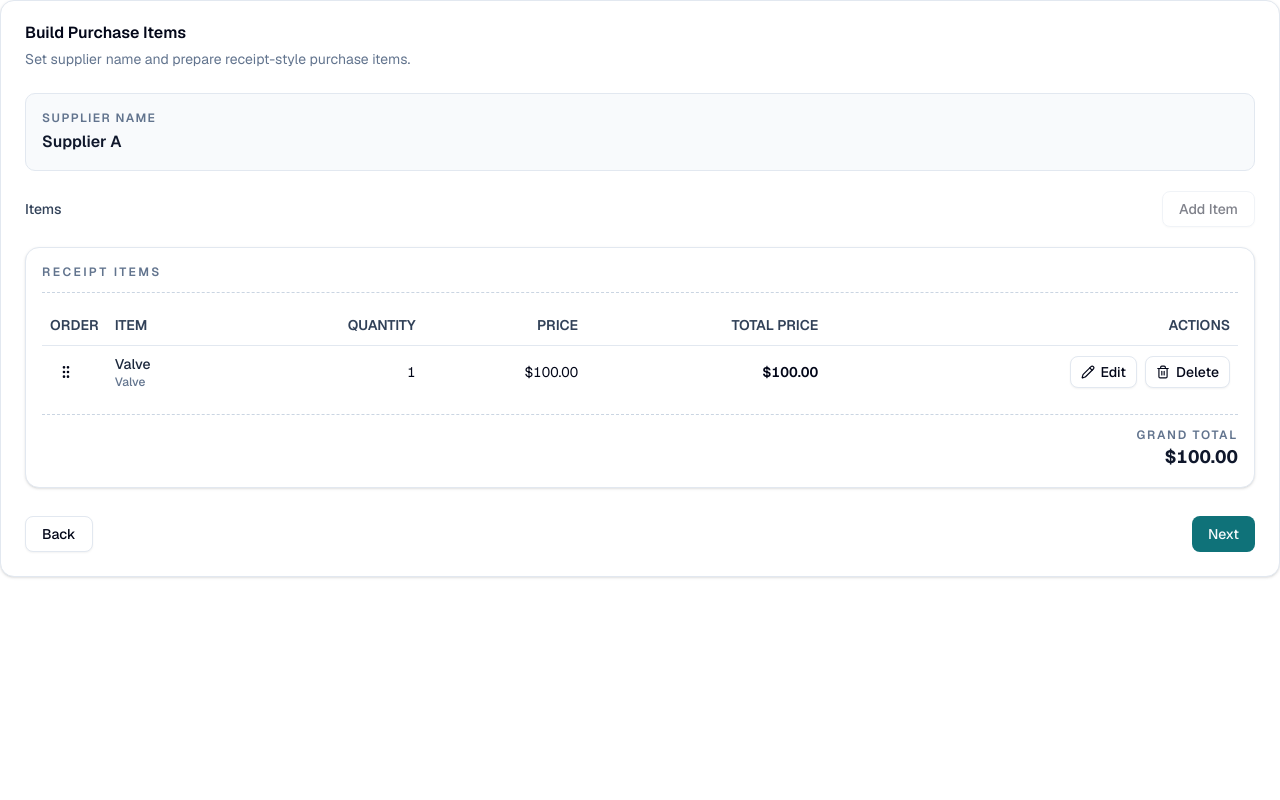
it: CreatePurchaseOrderStepTwo › shows supplier mismatch message when backend returns 409
Click the button "Next": (1223, 534) [1192, 516, 1255, 552]
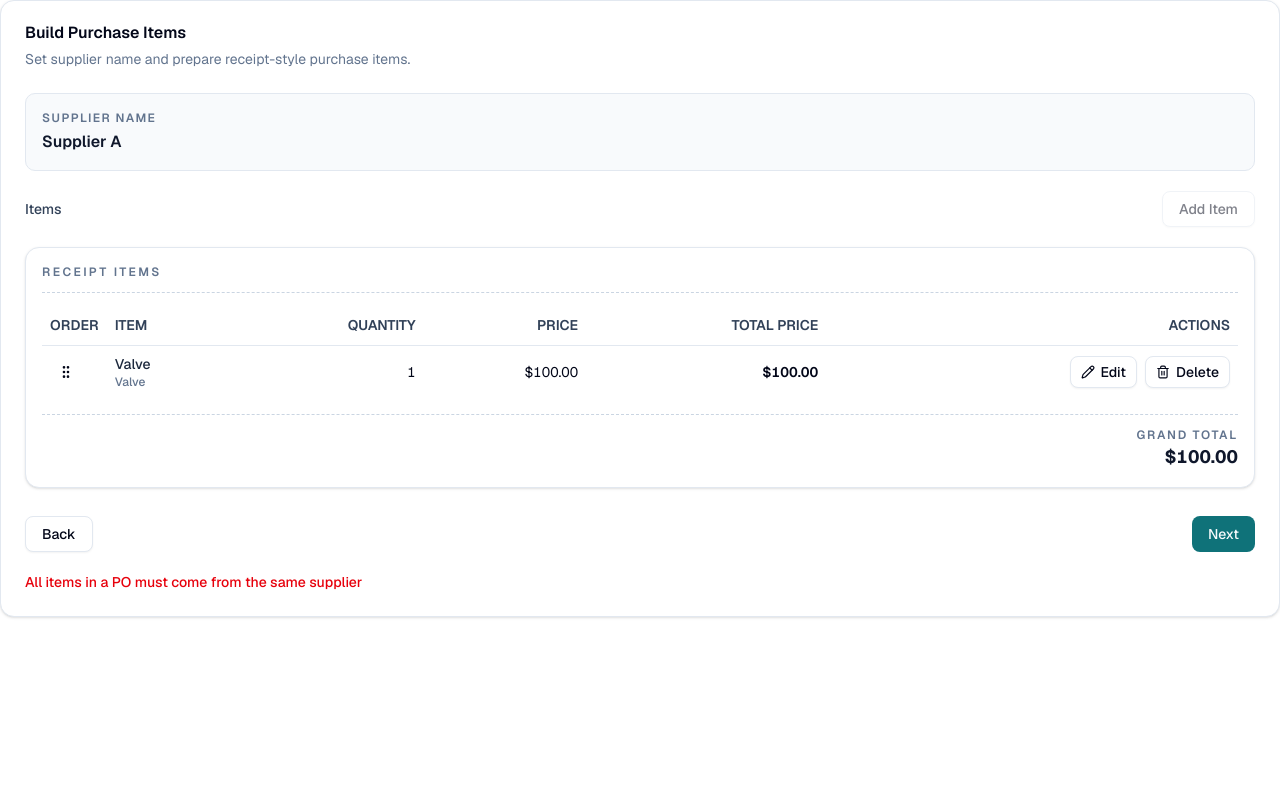
Expected: the text "All items in a PO must come from the same supplier" is shown, [25, 572, 362, 590]
